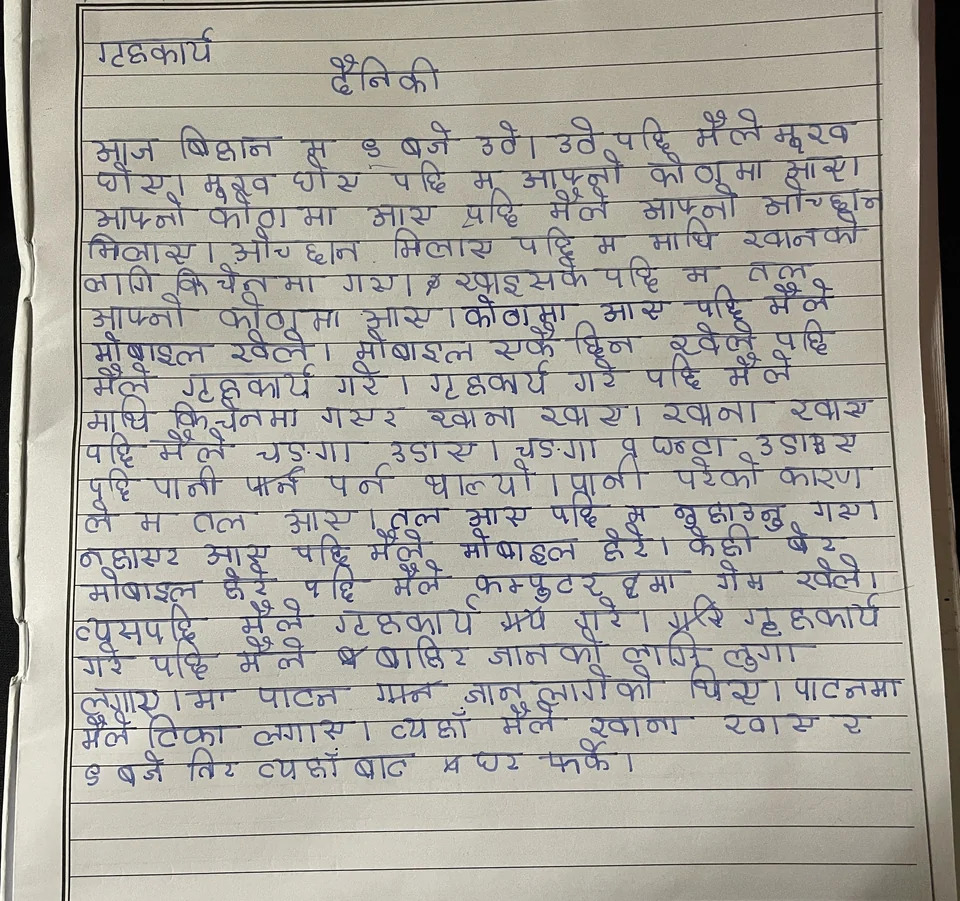text: (739, 595, 888, 637), (74, 607, 210, 648), (218, 289, 344, 333), (179, 365, 316, 405), (741, 211, 871, 251), (473, 565, 609, 603), (538, 665, 664, 706), (165, 396, 304, 433), (329, 604, 480, 638), (254, 751, 419, 782), (450, 259, 588, 296), (323, 54, 444, 96), (426, 362, 554, 401), (229, 230, 366, 266), (94, 27, 220, 66), (487, 628, 606, 669), (350, 328, 477, 366), (88, 330, 214, 368), (458, 527, 579, 565), (175, 123, 284, 164), (172, 266, 320, 296), (208, 197, 346, 229), (658, 396, 779, 432), (389, 224, 497, 264), (417, 466, 542, 500), (644, 154, 768, 188), (79, 570, 203, 604), (459, 293, 579, 328), (755, 182, 886, 214), (639, 181, 748, 219), (86, 228, 197, 265), (687, 665, 773, 712), (672, 498, 787, 533), (254, 433, 369, 467), (144, 712, 240, 750), (791, 673, 908, 704), (672, 454, 764, 493), (88, 300, 199, 332), (752, 428, 866, 459), (568, 455, 654, 496), (233, 599, 316, 640), (666, 321, 762, 356), (694, 108, 767, 154), (517, 160, 621, 192), (155, 426, 238, 466), (534, 396, 631, 430), (623, 632, 712, 669), (422, 399, 521, 432), (374, 637, 473, 670), (721, 706, 821, 738), (89, 200, 192, 231), (279, 501, 365, 538), (722, 638, 818, 671), (226, 330, 318, 364), (536, 738, 619, 775), (777, 461, 879, 491), (253, 680, 355, 710), (784, 394, 878, 426), (77, 684, 168, 717), (150, 642, 221, 684), (648, 429, 741, 461), (252, 718, 358, 746), (286, 158, 364, 196), (385, 436, 483, 466), (721, 350, 797, 388), (199, 169, 283, 203), (387, 708, 471, 742), (771, 119, 863, 150), (586, 712, 684, 741), (146, 465, 229, 499), (79, 542, 187, 568), (237, 637, 317, 672), (686, 524, 765, 559), (490, 325, 564, 362), (567, 321, 639, 359), (79, 263, 159, 297), (358, 299, 443, 331), (319, 401, 404, 433), (512, 434, 605, 463), (360, 196, 436, 231), (74, 709, 133, 754), (461, 189, 525, 230), (95, 162, 171, 196), (82, 433, 150, 471), (570, 596, 633, 637), (596, 255, 662, 294), (796, 557, 869, 592), (87, 397, 156, 434), (545, 188, 615, 224), (87, 363, 157, 399), (301, 567, 371, 603), (646, 217, 722, 250), (87, 135, 165, 167), (771, 319, 835, 358), (599, 291, 670, 326), (681, 285, 746, 323), (762, 284, 838, 316), (564, 360, 633, 395), (387, 561, 454, 597), (396, 122, 458, 160), (71, 644, 138, 679), (499, 703, 567, 737), (510, 226, 579, 259), (612, 115, 673, 152), (388, 160, 449, 197), (711, 560, 779, 593), (550, 491, 609, 529), (643, 354, 704, 390), (326, 469, 399, 499), (190, 506, 263, 536), (784, 521, 850, 554), (549, 117, 602, 158), (219, 564, 279, 600), (600, 524, 655, 563), (366, 529, 435, 560), (462, 500, 533, 530), (182, 747, 241, 783), (329, 361, 386, 398), (472, 120, 525, 159), (805, 494, 869, 526), (743, 257, 821, 283), (779, 157, 853, 184), (201, 539, 273, 566), (462, 677, 533, 704), (288, 535, 353, 564), (386, 503, 453, 531), (83, 468, 138, 502), (468, 743, 521, 778), (338, 268, 401, 296), (115, 752, 168, 785), (129, 506, 182, 537), (644, 564, 693, 596), (186, 685, 237, 714), (84, 497, 119, 538), (830, 708, 875, 738), (679, 258, 722, 288), (467, 166, 509, 195), (296, 135, 341, 162), (353, 131, 389, 162), (592, 231, 630, 258), (623, 498, 660, 523), (618, 432, 647, 460), (81, 760, 104, 787)
